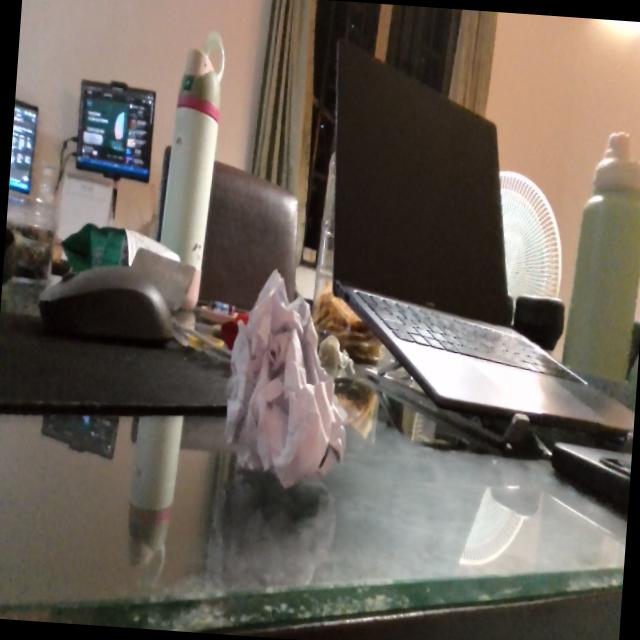crumpled_paper: (218, 262, 362, 494)
